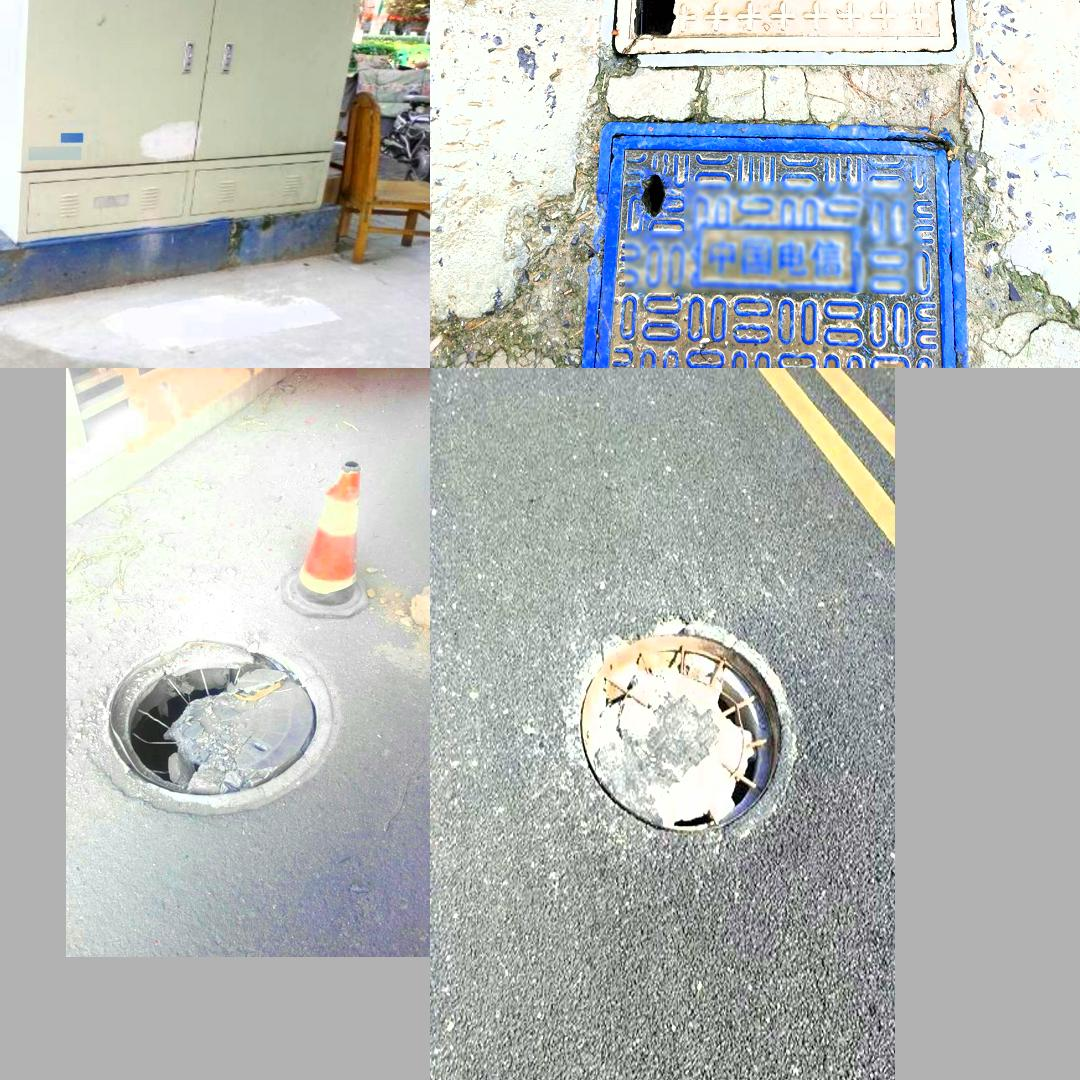broke: (566, 599, 802, 864), (77, 618, 342, 810), (607, 0, 971, 71)
